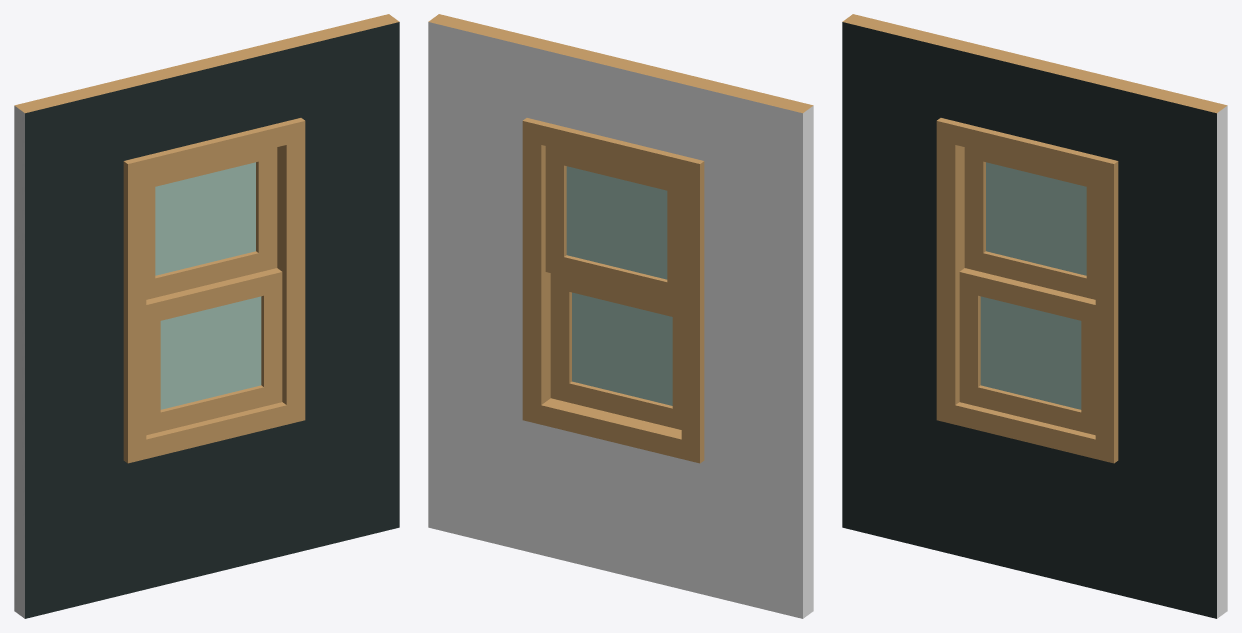
File: wallWindowSlide.glb
3 views of the same model, side by side, from view 1: azimuth 30°, elevation 25°; view 2: azimuth 150°, elevation 25°; view 3: azimuth 330°, elevation 25° (orthographic).
Size of the model in its own units: 10 by 12.9 by 0.891.
